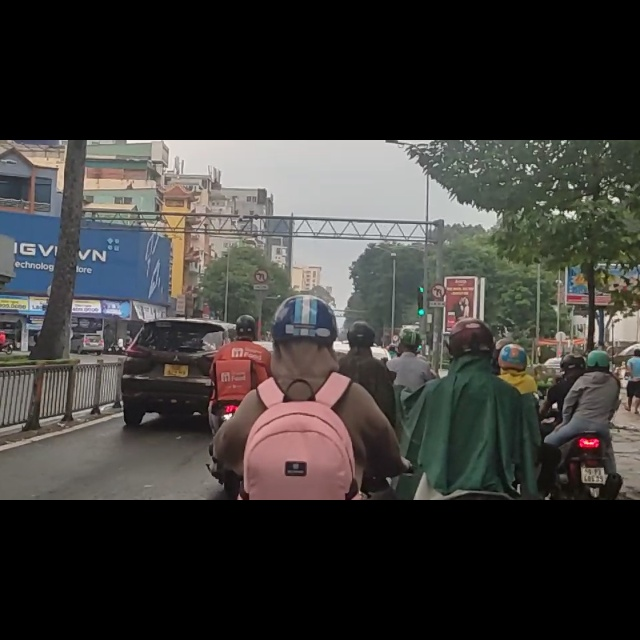bien_cam: (252, 225, 269, 255), (431, 256, 447, 283)
